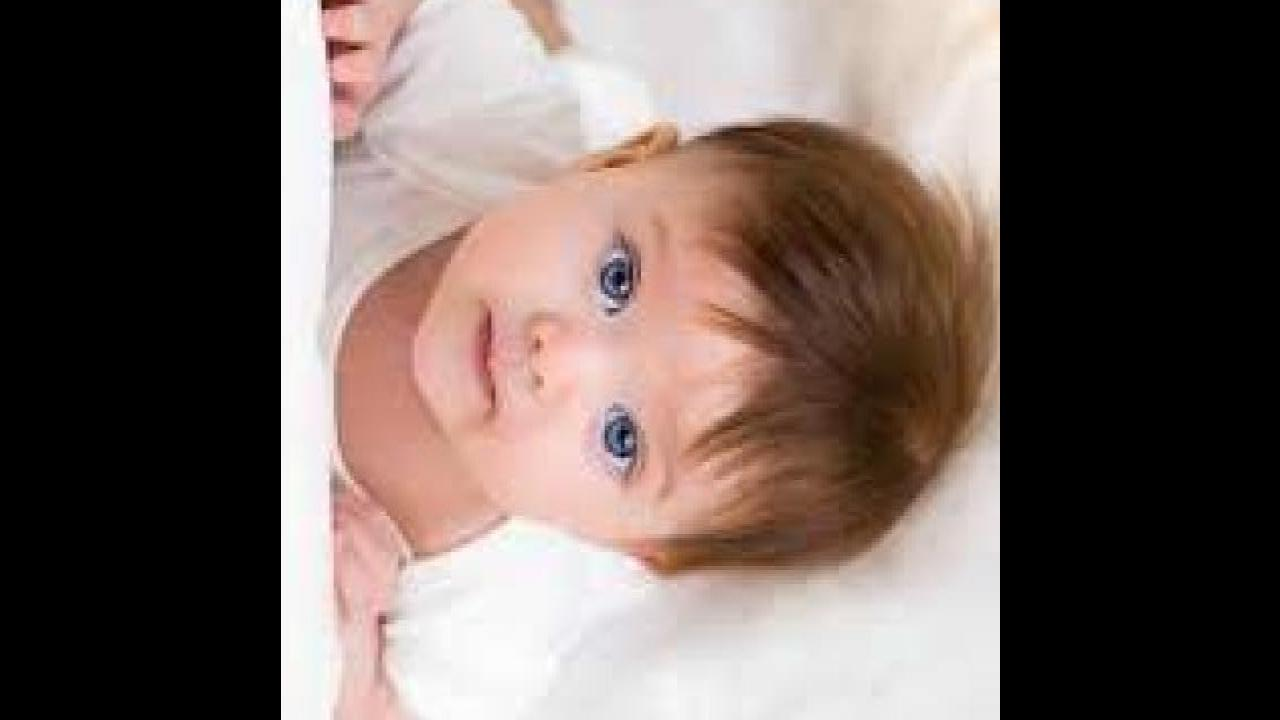hand: (325, 477, 410, 629), (310, 0, 384, 149)
